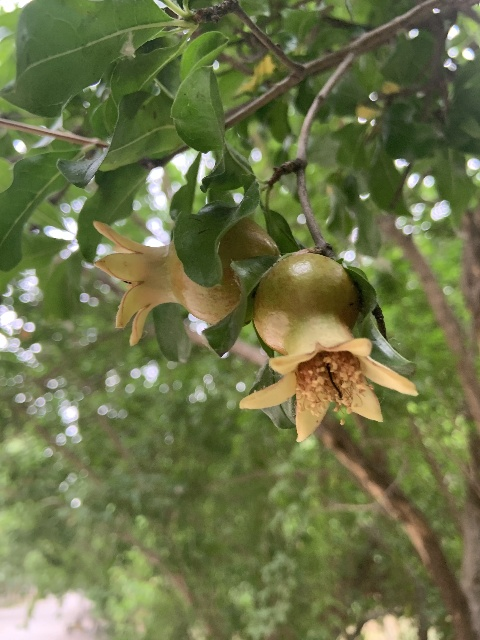early-fruit: (237, 250, 418, 444), (93, 216, 280, 349)
